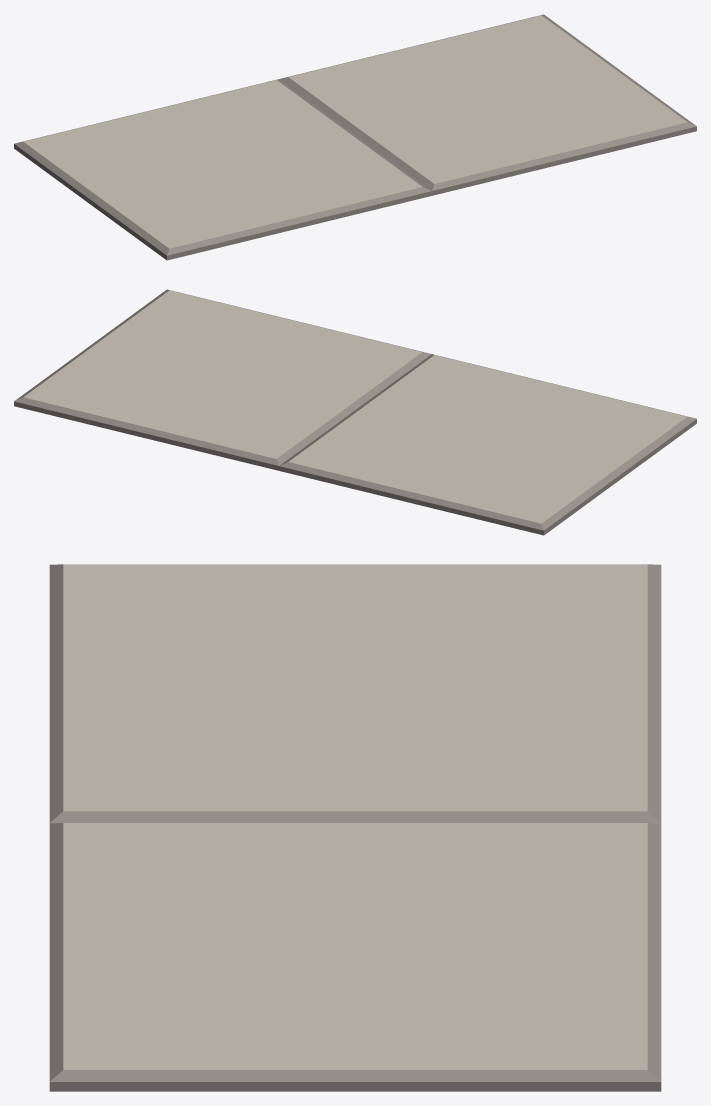
The model's file is Path_Slab_1x2.fbx.
3 views of the same model, one above another, from view 1: azimuth 30°, elevation 25°; view 2: azimuth 150°, elevation 25°; view 3: azimuth 270°, elevation 25° (orthographic). The views are drawn at different scales.
Visible parts, largest first — view 1: Slab_1x2; view 2: Slab_1x2; view 3: Slab_1x2.
Boxes of the visible parts, left/top/right/bottom form: Slab_1x2: left=14, top=14, right=696, bottom=260; Slab_1x2: left=14, top=289, right=696, bottom=535; Slab_1x2: left=49, top=564, right=661, bottom=1091.
Bounding box in the file's own units: 200 × 2.85 × 100.
